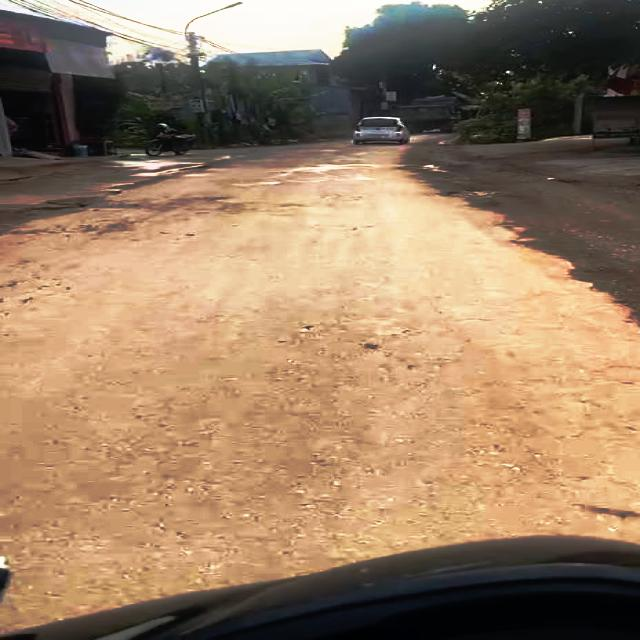pothole: (560, 264, 634, 290), (506, 231, 560, 254), (443, 187, 505, 199)
